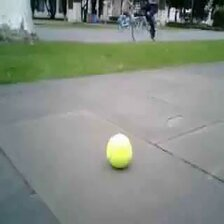tennis: (106, 133, 132, 169)
